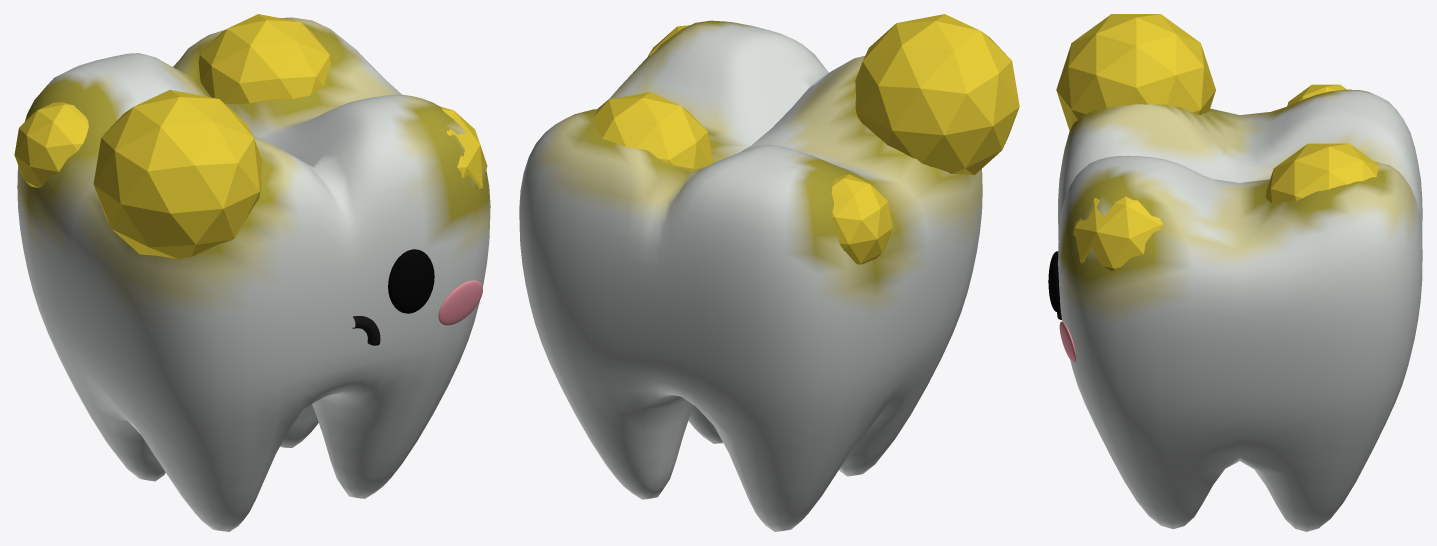
Rendered from gigiasam.glb.
3 renders of one model, left to right at view 1: azimuth 30°, elevation 25°; view 2: azimuth 150°, elevation 25°; view 3: azimuth 270°, elevation 25°, orthographic. The views are drawn at different scales.
Visible parts, largest first — view 1: Cube, Icosphere, Icosphere.001, Icosphere.003, Plane, Icosphere.002, Plane.001; view 2: Cube, Icosphere, Icosphere.001, Icosphere.003; view 3: Cube, Icosphere, Icosphere.001, Icosphere.002, Plane, Icosphere.003.
Part boxes in pixels (x1,y1,x2,y2): Cube: (17,17,490,531); Icosphere: (93,90,261,259); Icosphere.001: (198,14,331,104); Icosphere.003: (14,102,88,187); Plane: (388,249,434,313); Icosphere.002: (440,106,487,190); Plane.001: (438,280,482,325); Cube: (519,20,982,531); Icosphere: (855,14,1019,175); Icosphere.001: (593,92,712,168); Icosphere.003: (831,174,892,264); Cube: (1058,89,1422,531); Icosphere: (1056,14,1215,130); Icosphere.001: (1266,143,1379,203); Icosphere.002: (1073,196,1162,271); Plane: (1048,251,1060,311); Icosphere.003: (1287,84,1346,106).
Bounding box in the file's own units: 2.73 × 3.16 × 2.52.
